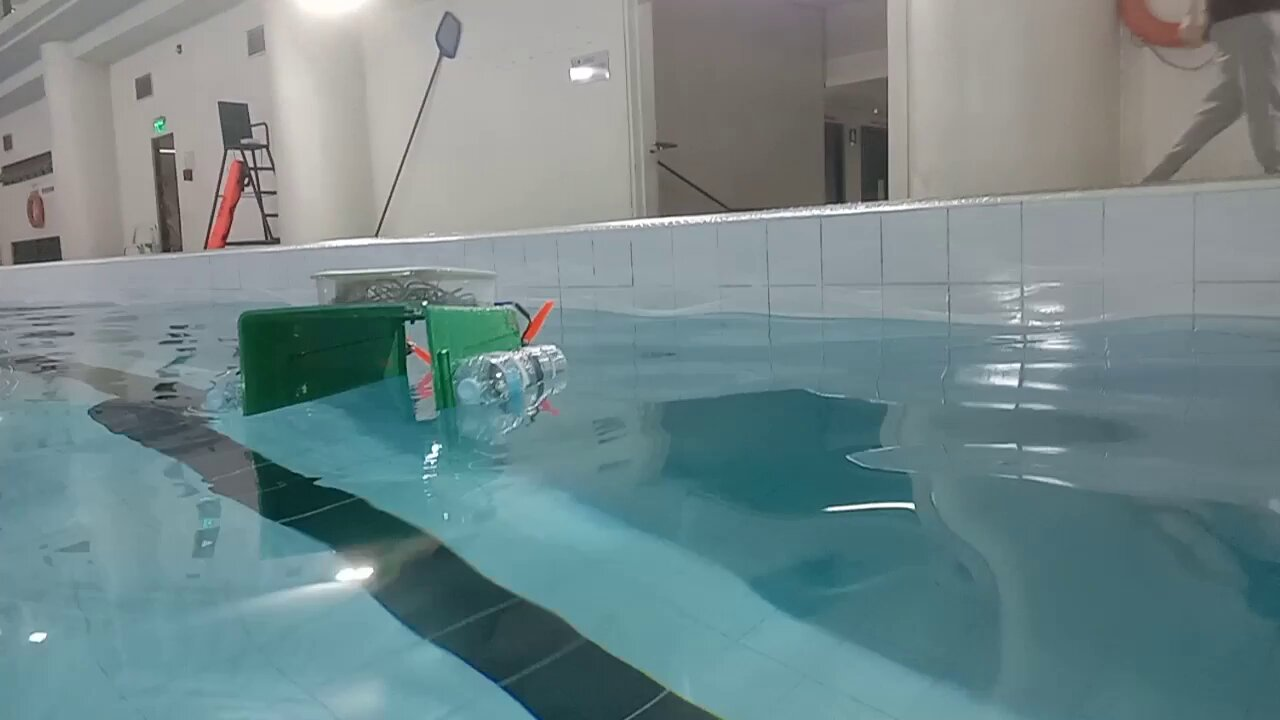drone: (206, 265, 570, 417)
